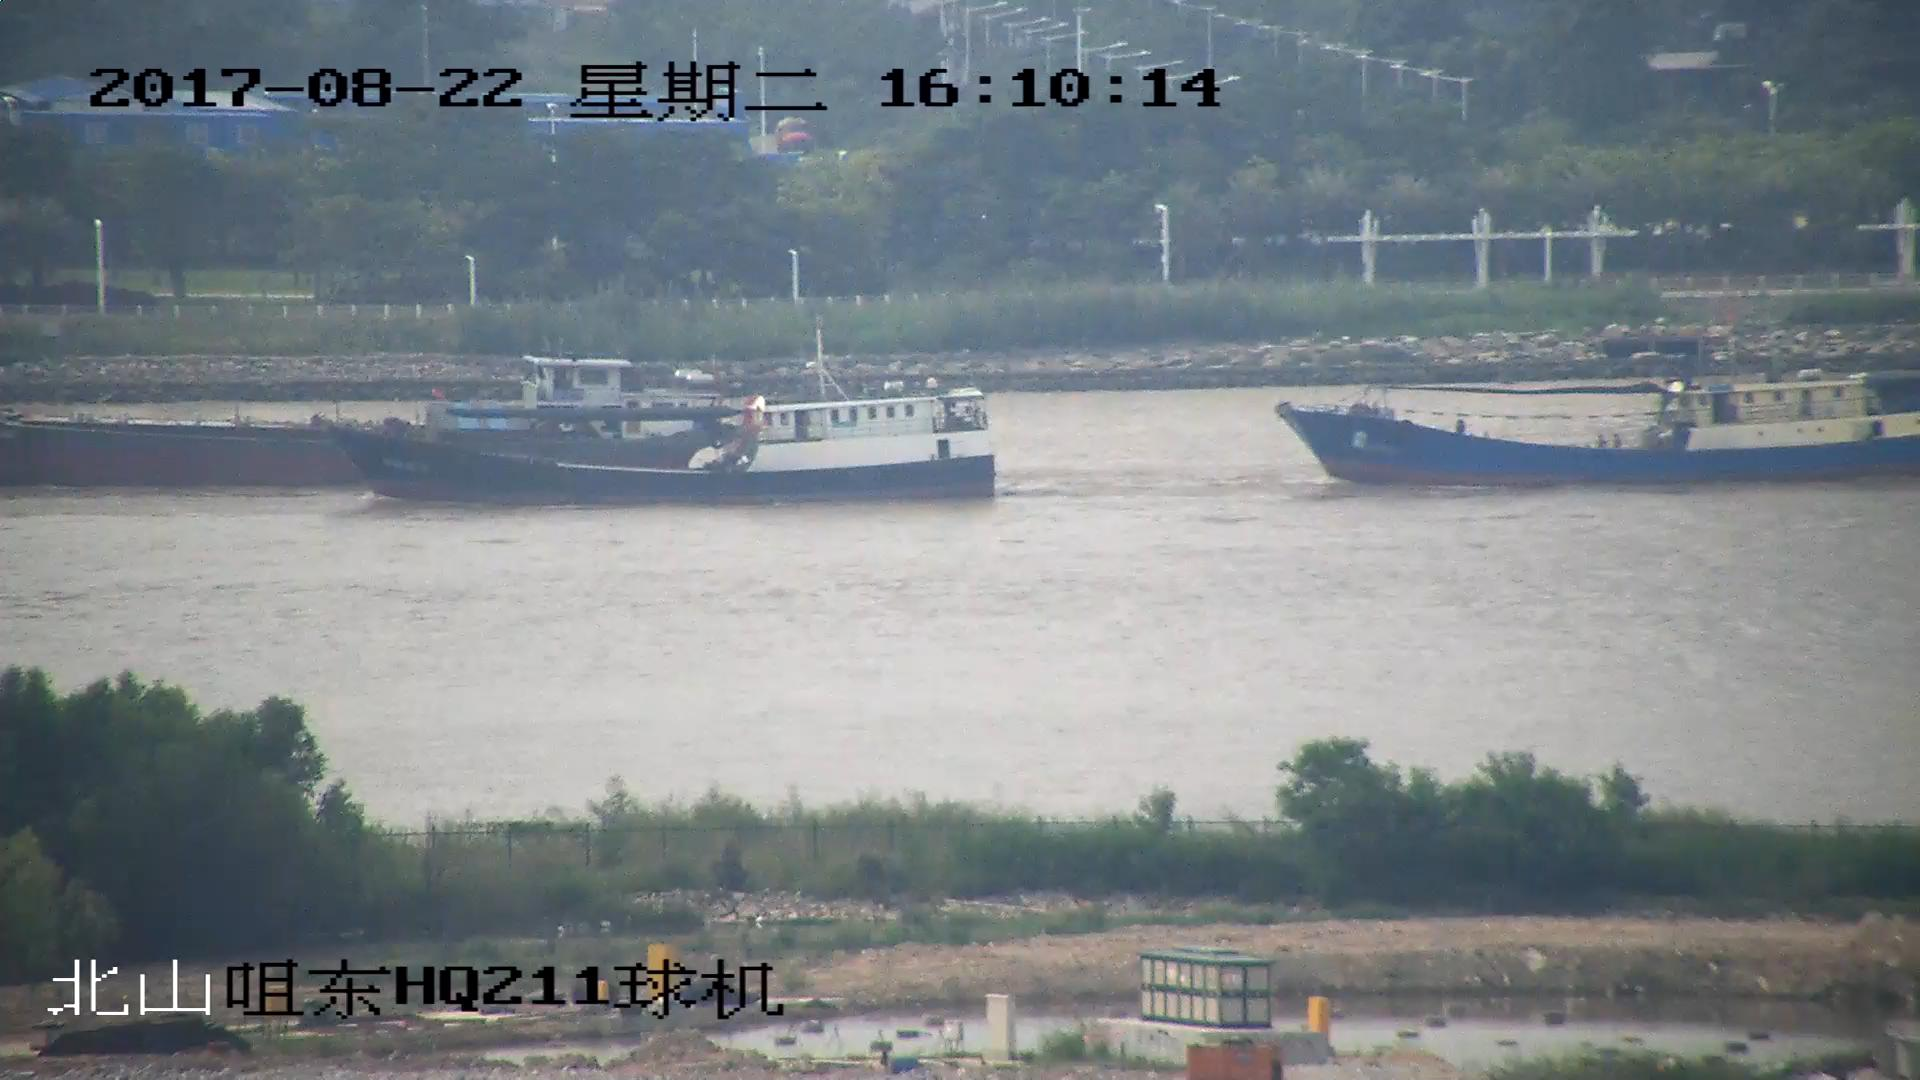bulk cargo carrier: (1, 353, 693, 482)
fishing boat: (331, 380, 995, 507), (1280, 369, 1920, 490)
